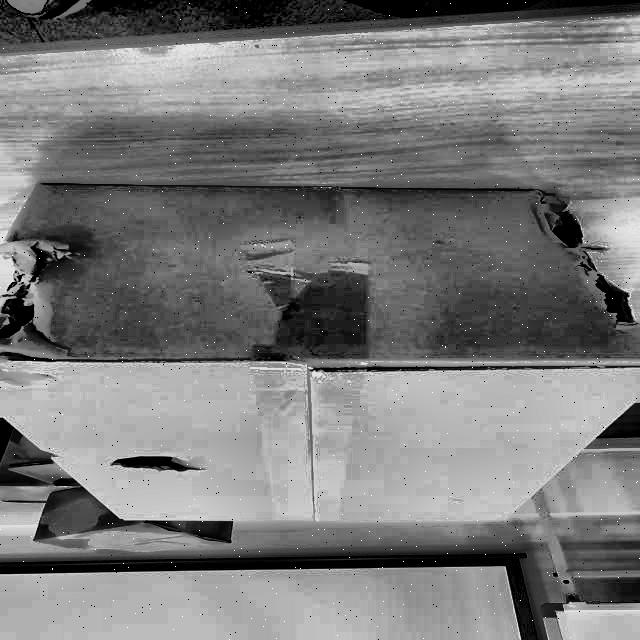box: (1, 167, 640, 535)
hole: (541, 214, 640, 340), (0, 247, 49, 353), (103, 448, 207, 478)
